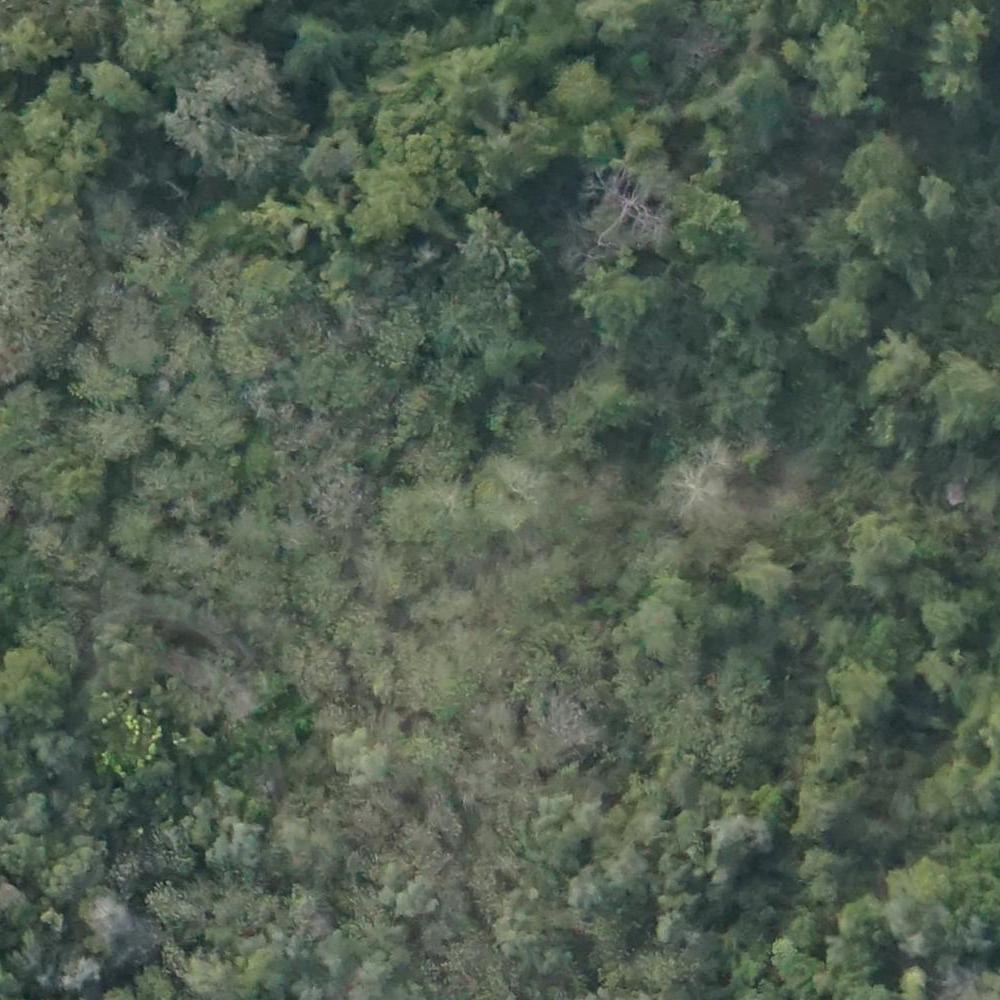tree: (660, 453, 738, 531), (345, 163, 419, 237), (572, 264, 645, 338), (477, 452, 547, 527), (172, 368, 240, 445), (931, 356, 998, 433), (846, 518, 913, 594), (857, 190, 922, 258), (829, 657, 895, 723), (810, 35, 867, 110), (1, 650, 65, 716), (175, 459, 236, 528), (810, 290, 870, 358), (469, 216, 531, 281), (732, 541, 790, 602), (529, 696, 593, 751), (631, 596, 688, 657), (513, 563, 568, 626), (86, 409, 152, 457), (34, 453, 89, 510), (897, 855, 955, 909), (697, 271, 768, 315), (114, 496, 165, 556), (139, 458, 208, 502), (303, 122, 358, 177), (293, 16, 337, 84), (81, 355, 134, 410), (334, 731, 389, 782), (843, 130, 906, 172), (167, 530, 216, 584), (556, 60, 609, 109), (716, 646, 760, 704), (28, 101, 71, 159), (389, 490, 434, 545), (87, 62, 135, 113), (570, 863, 612, 918), (215, 824, 264, 870), (377, 328, 430, 368), (107, 326, 151, 373), (586, 386, 636, 427), (602, 848, 644, 889), (924, 600, 967, 640), (704, 730, 742, 775), (398, 877, 435, 917), (88, 898, 124, 938), (488, 340, 521, 378), (582, 118, 615, 152), (812, 871, 840, 902), (769, 934, 796, 966)
